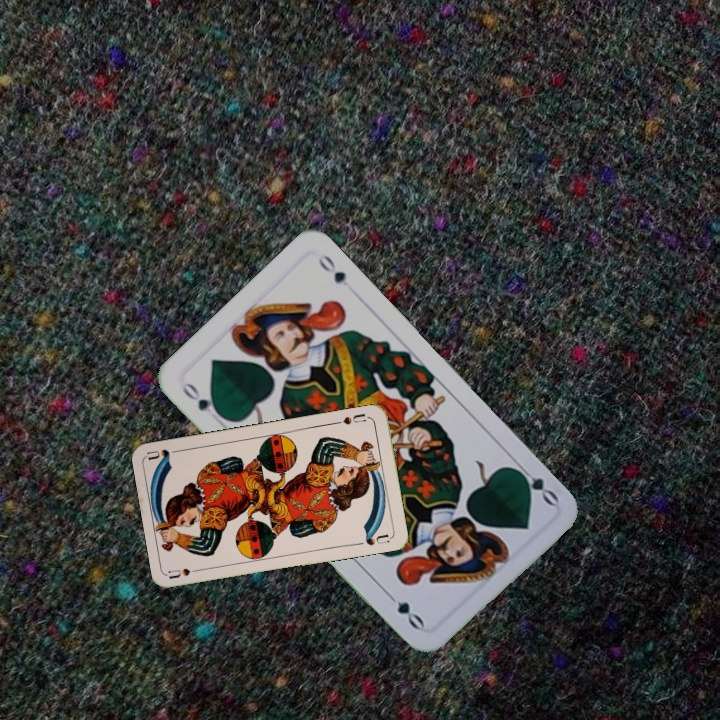GO: (510, 459, 561, 508), (178, 378, 227, 421)
SU: (165, 564, 206, 581), (331, 409, 368, 427)
